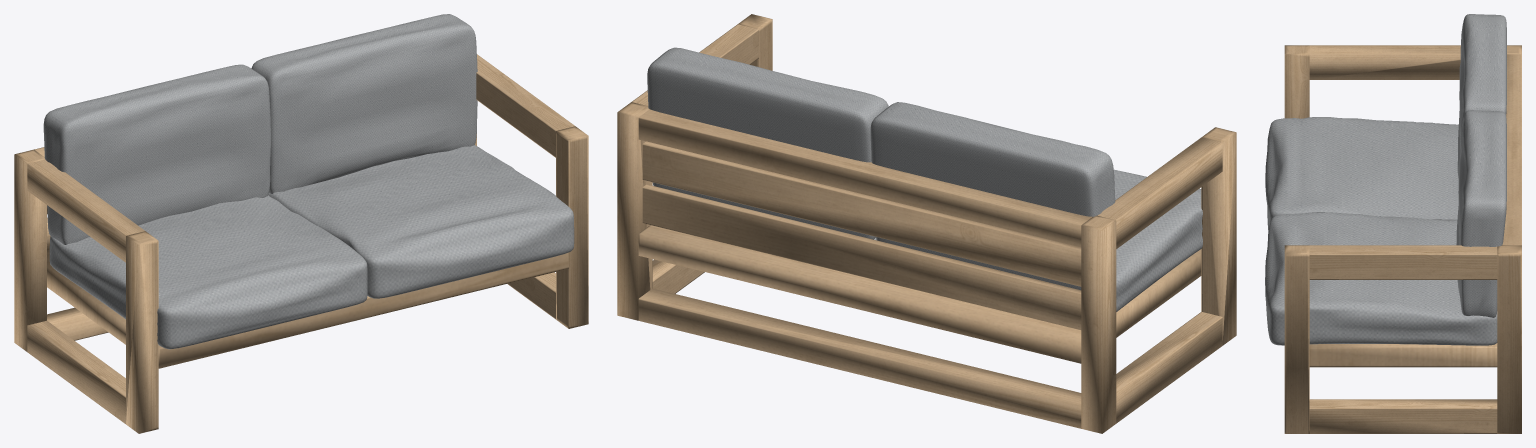
File: portside_outdoor_sofa.glb
3 views of the same model, side by side, from view 1: azimuth 30°, elevation 25°; view 2: azimuth 150°, elevation 25°; view 3: azimuth 270°, elevation 25° (orthographic). The views are drawn at different scales.
Visible parts, largest first — view 1: Portside Outdoor Sofa; view 2: Portside Outdoor Sofa; view 3: Portside Outdoor Sofa.
Boxes of the visible parts, x1,y1,x2,y2 form: Portside Outdoor Sofa: [14, 14, 588, 433]; Portside Outdoor Sofa: [617, 14, 1236, 433]; Portside Outdoor Sofa: [1265, 14, 1521, 433].
Size of the model in its own units: 1.75 by 0.8824 by 0.9069.
1 material, 1 textured.
